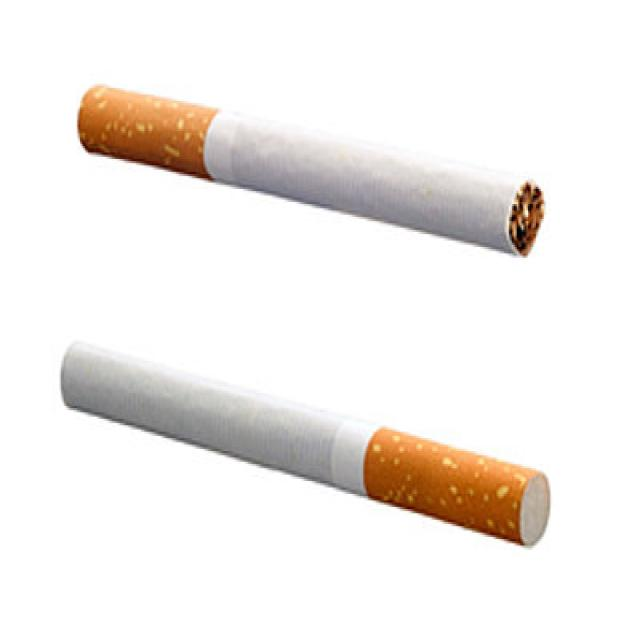smoking: (60, 337, 552, 549), (78, 83, 547, 261)
